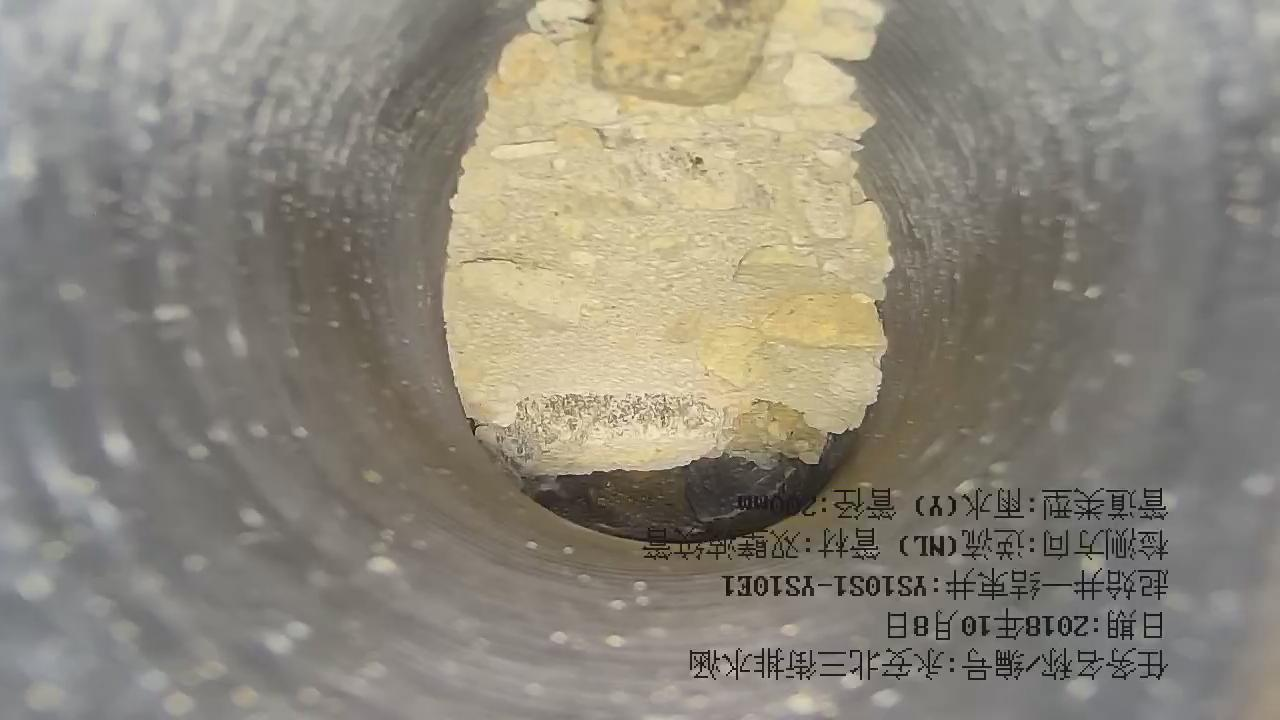ZAW: (444, 1, 892, 474)
